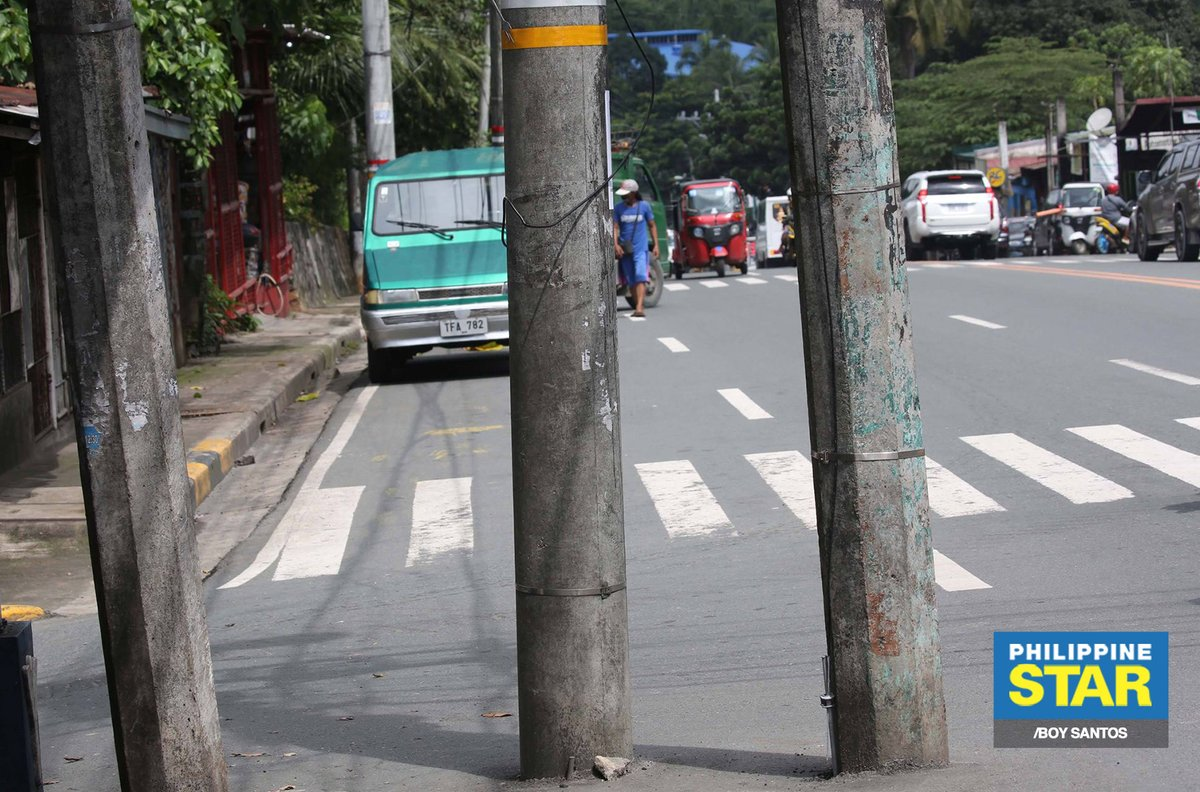car: (365, 155, 509, 374), (904, 169, 1002, 257), (1136, 142, 1200, 262)
pedestrian lane: (287, 416, 1200, 588)
person: (617, 185, 659, 320)
pole: (29, 4, 230, 792), (777, 3, 955, 773), (502, 6, 642, 781)
